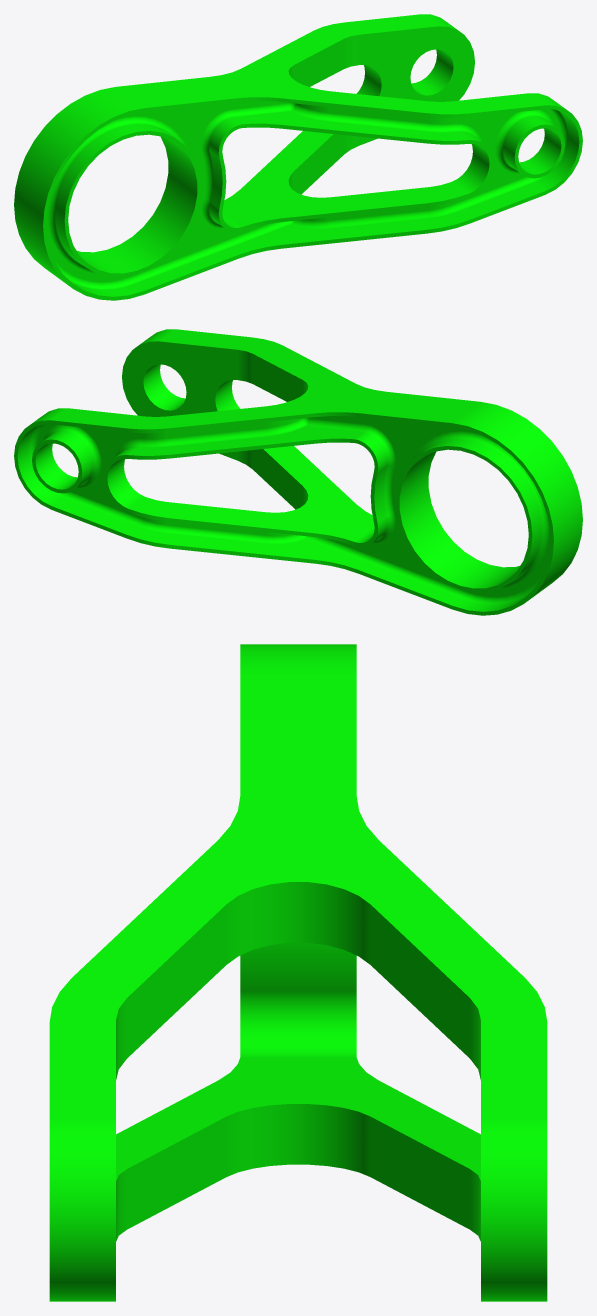
The picture shows the model from 3 angles, top to bottom: view 1: azimuth 30°, elevation 25°; view 2: azimuth 150°, elevation 25°; view 3: azimuth 270°, elevation 25°; orthographic projection. The views are drawn at different scales.
Visible parts, largest first — view 1: model.glb; view 2: model.glb; view 3: model.glb.
Boxes of the visible parts, x1,y1,x2,y2 form: model.glb: [14, 14, 582, 300]; model.glb: [14, 329, 582, 615]; model.glb: [49, 644, 547, 1301].
Bounding box in the file's own units: 0.137 × 0.05 × 0.06.
